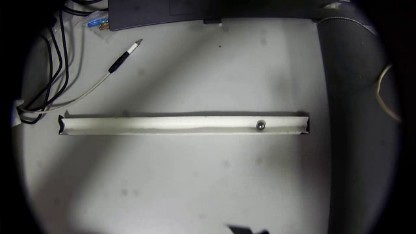gangzhu: (258, 121, 264, 130)
